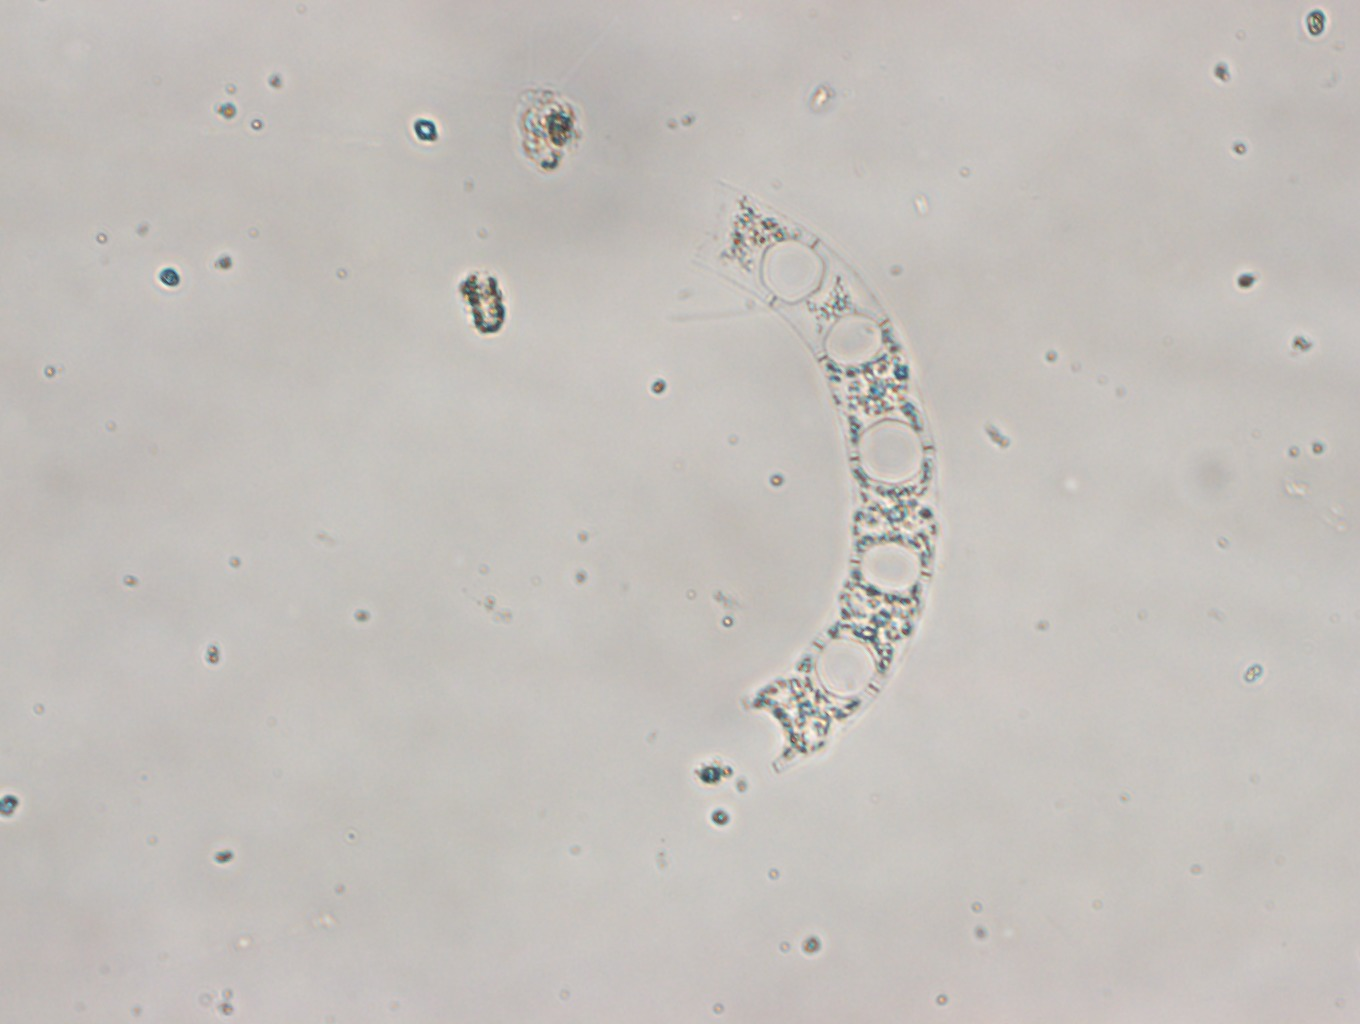eucampia: (692, 173, 937, 774)
